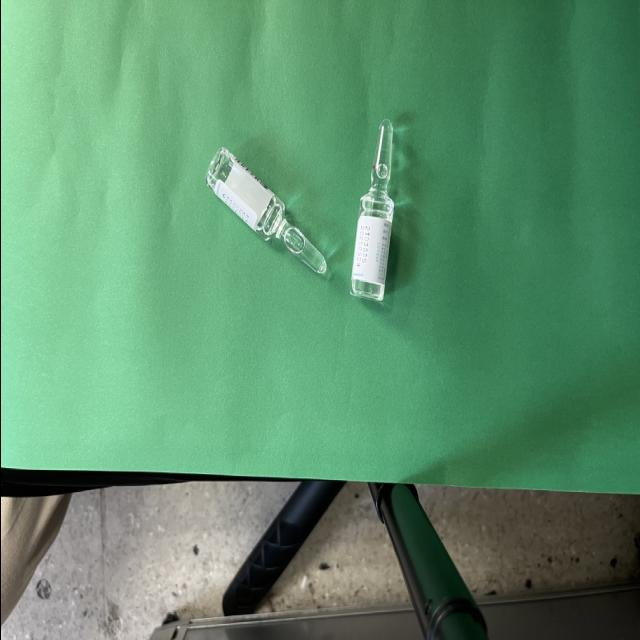Ampoules: (206, 149, 326, 275), (350, 119, 393, 301)
